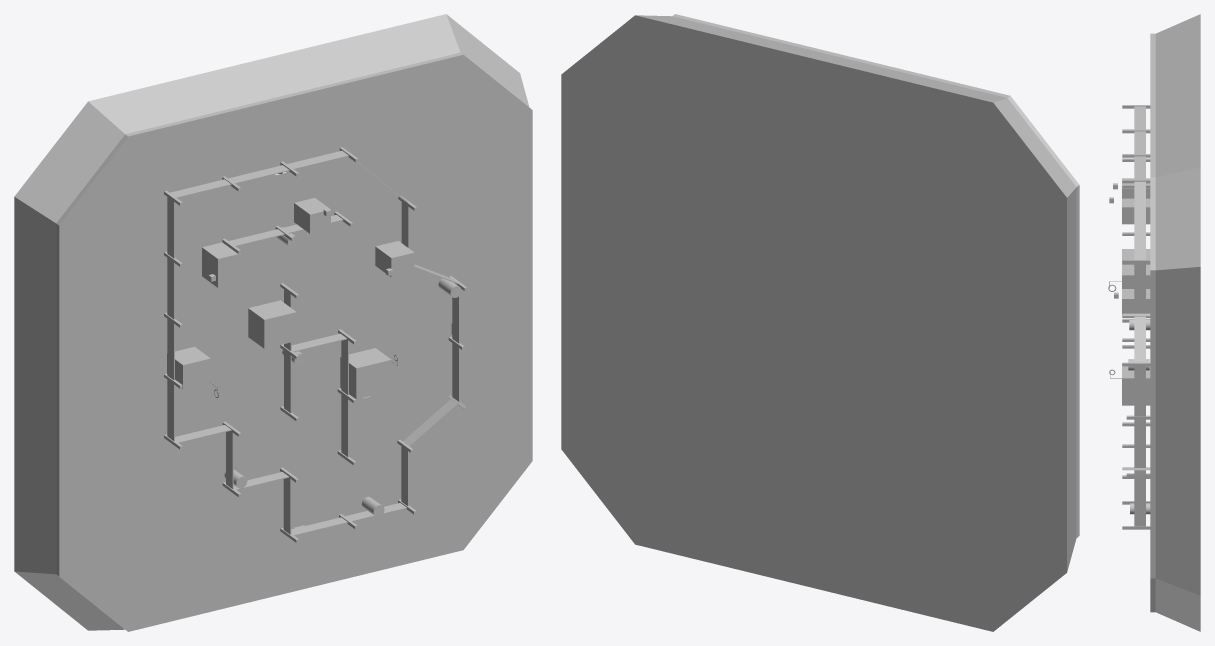
The model's file is map.obj.
3 renders of one model, left to right at view 1: azimuth 30°, elevation 25°; view 2: azimuth 150°, elevation 25°; view 3: azimuth 270°, elevation 25°, orthographic. The views are drawn at different scales.
Parts seen in each view (by area): view 1: main_red_ground, main_red_Red, main_red_objects; view 2: main_red_Red, main_red_ground; view 3: main_red_Red, main_red_objects, main_red_ground, main_red_Green, main_red_Black.
Boxes of the visible parts, x1=… form: main_red_ground: x1=56, y1=52, x2=532, y2=631; main_red_Red: x1=14, y1=14, x2=529, y2=630; main_red_objects: x1=164, y1=147, x2=467, y2=542; main_red_Red: x1=561, y1=15, x2=1076, y2=631; main_red_ground: x1=672, y1=14, x2=1079, y2=537; main_red_Red: x1=1108, y1=14, x2=1200, y2=631; main_red_objects: x1=1109, y1=105, x2=1150, y2=529; main_red_ground: x1=1150, y1=33, x2=1155, y2=612; main_red_Green: x1=1109, y1=197, x2=1150, y2=514; main_red_Black: x1=1114, y1=292, x2=1150, y2=330.
Bounding box in the file's own units: 10.95 × 10.95 × 1.97.
